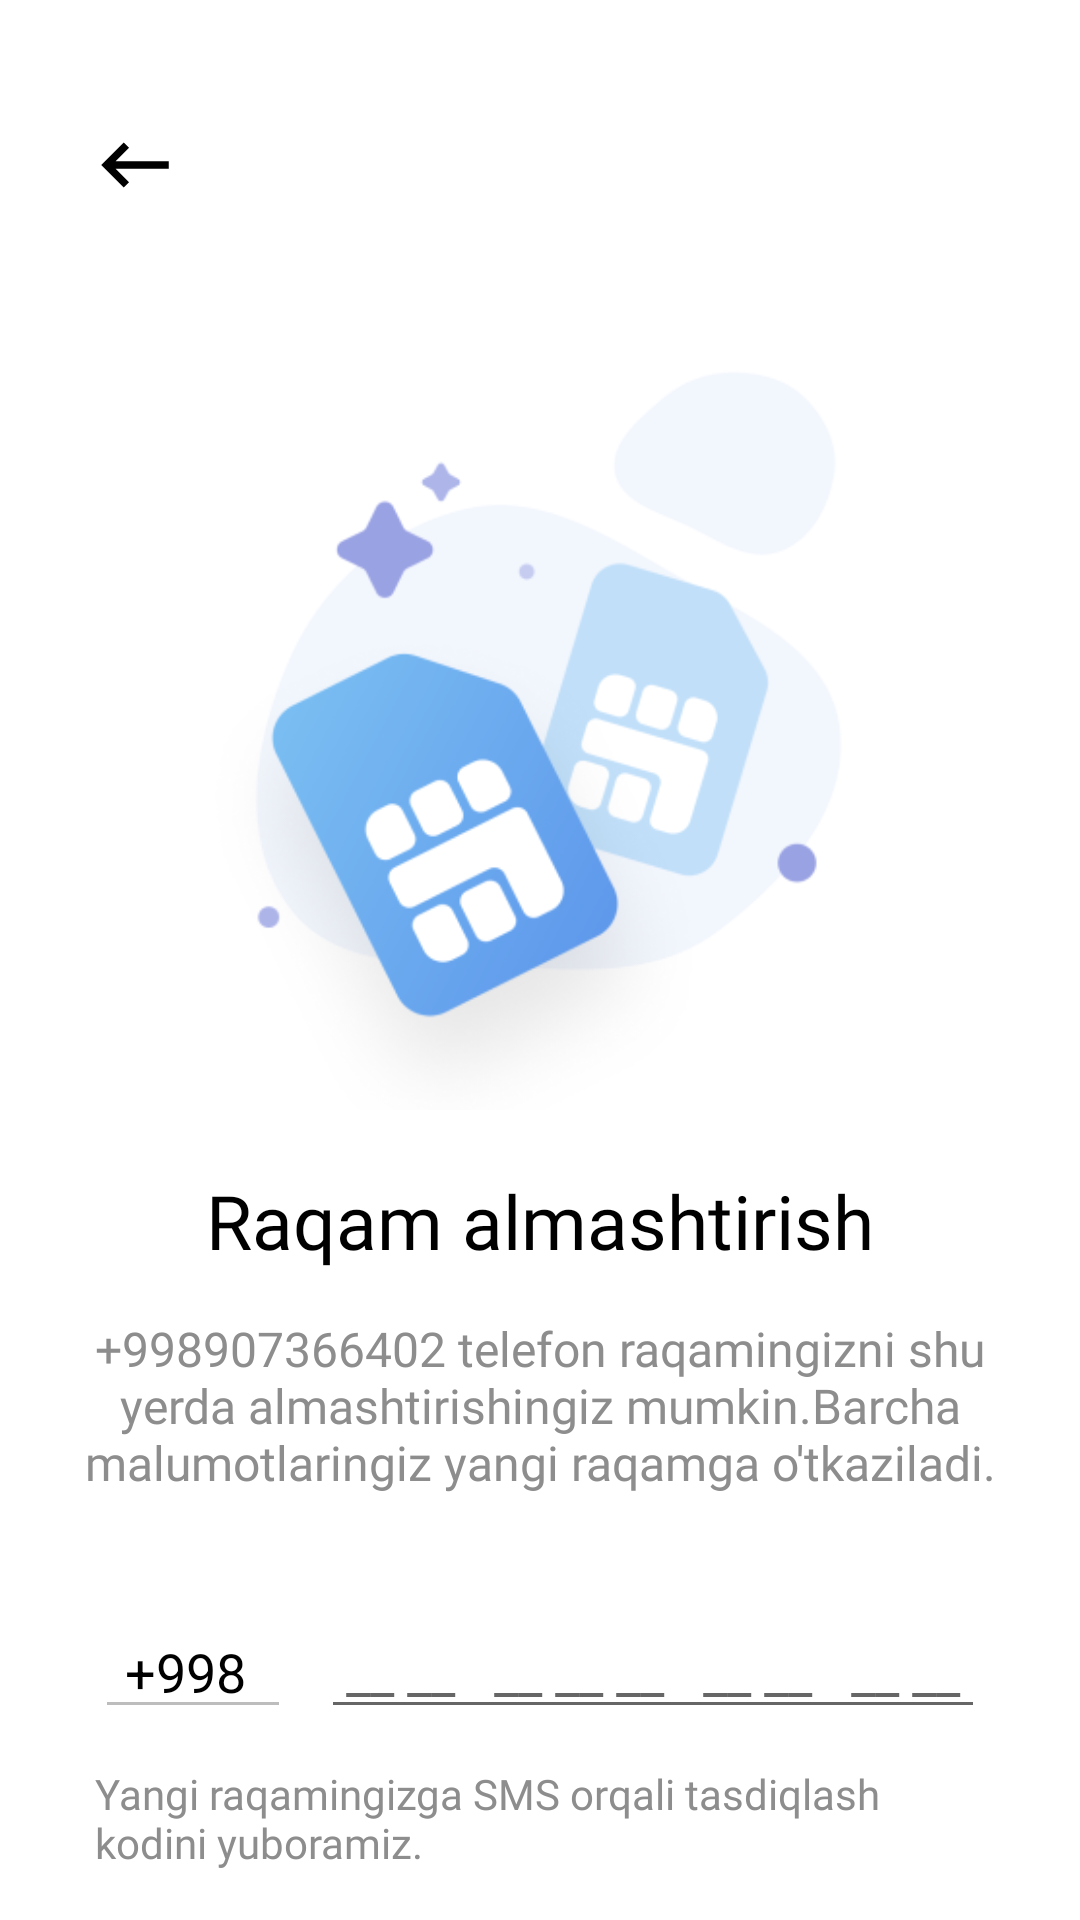

Named icons in this screenshot (1080*1920) and their bounding boxes, rect(x1, y1, x2, y2):
keyboard backspace: rect(101, 142, 169, 188)
